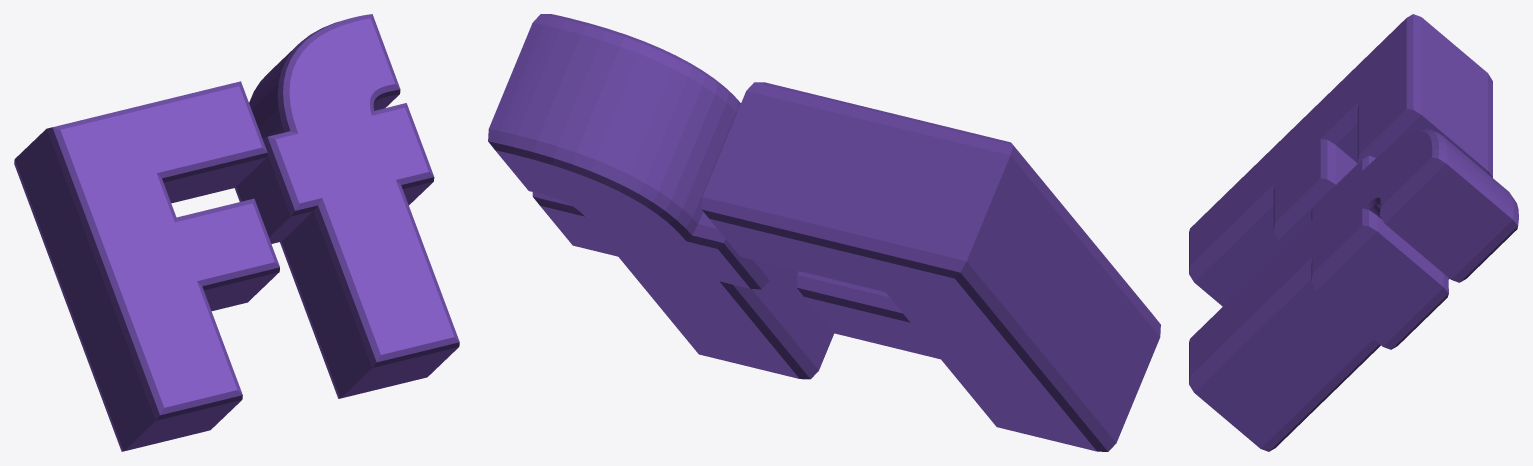
3 renders of one model, left to right at view 1: azimuth 30°, elevation 25°; view 2: azimuth 150°, elevation 25°; view 3: azimuth 270°, elevation 25°, orthographic. The views are drawn at different scales.
Visible parts, largest first — view 1: letter; view 2: letter; view 3: letter.
Part boxes in pixels (<box>): letter: <box>14,14,459,451</box>; letter: <box>488,14,1160,451</box>; letter: <box>1189,14,1518,451</box>.
Bounding box in the file's own units: 1.25 × 1.06 × 1.02.
